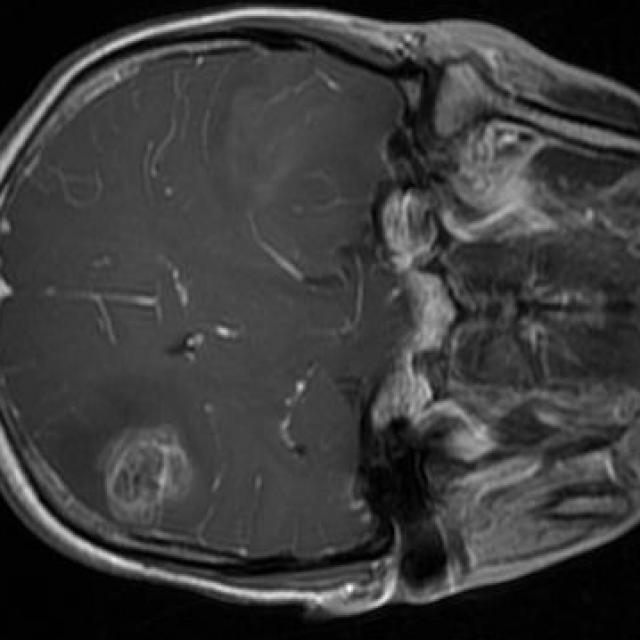glioma: (100, 424, 193, 526)
